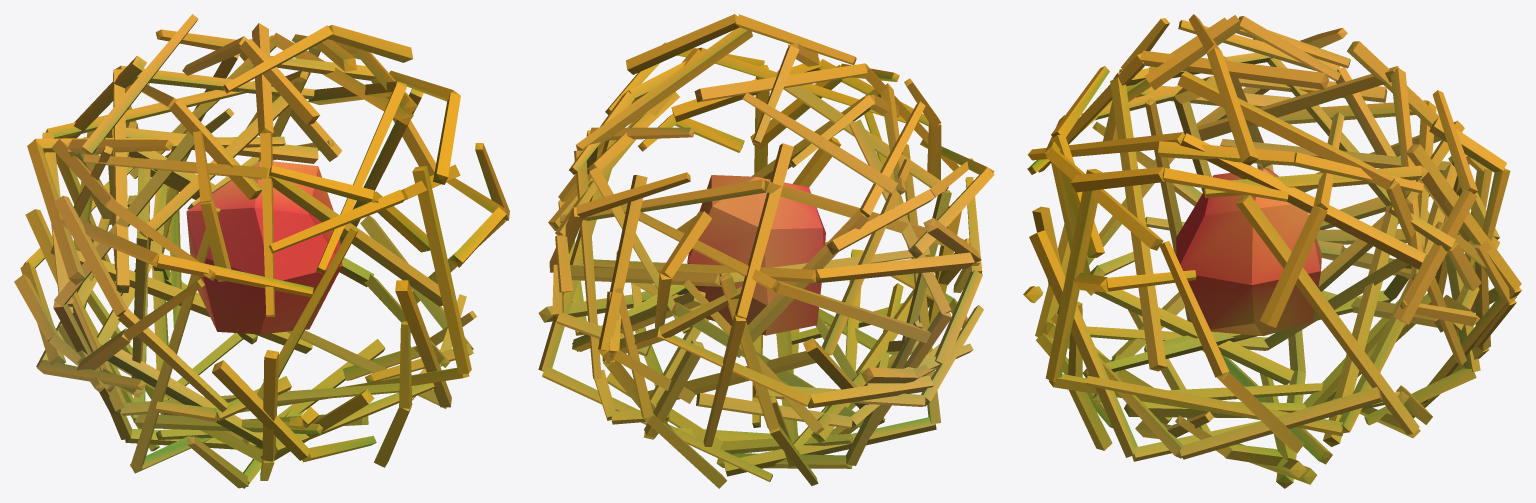
File: Tumbleweed_01.fbx
3 renders of one model, left to right at view 1: azimuth 30°, elevation 25°; view 2: azimuth 150°, elevation 25°; view 3: azimuth 270°, elevation 25°, orthographic. The views are drawn at different scales.
Visible parts, largest first — view 1: Tumbleweed_01; view 2: Tumbleweed_01; view 3: Tumbleweed_01.
Part boxes in pixels (x1,y1,x2,y2): Tumbleweed_01: [14, 14, 509, 488]; Tumbleweed_01: [538, 14, 994, 488]; Tumbleweed_01: [1023, 14, 1521, 488].
Bounding box in the file's own units: 0.9389 × 0.9135 × 0.9119.
